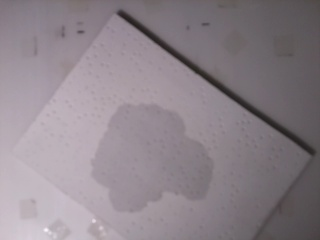Water_detected: (108, 111, 200, 205)
